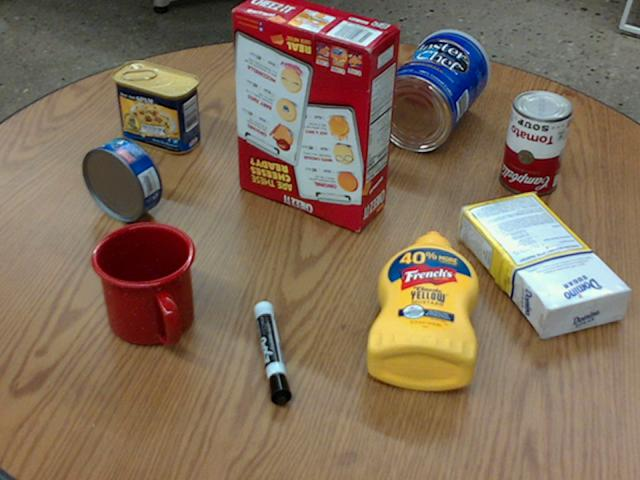cracker_box: (232, 0, 399, 229)
gelatin_box: (243, 60, 327, 115)
large_marker: (252, 300, 290, 405)
master_chef_can: (373, 29, 487, 151)
mug: (90, 222, 195, 346)
mustard_bottle: (365, 230, 477, 391)
potted_meat_can: (110, 62, 199, 153)
sugar_box: (456, 194, 631, 335)
tomato_soup_can: (498, 88, 570, 194)
tuna_fish_can: (82, 138, 160, 221)
